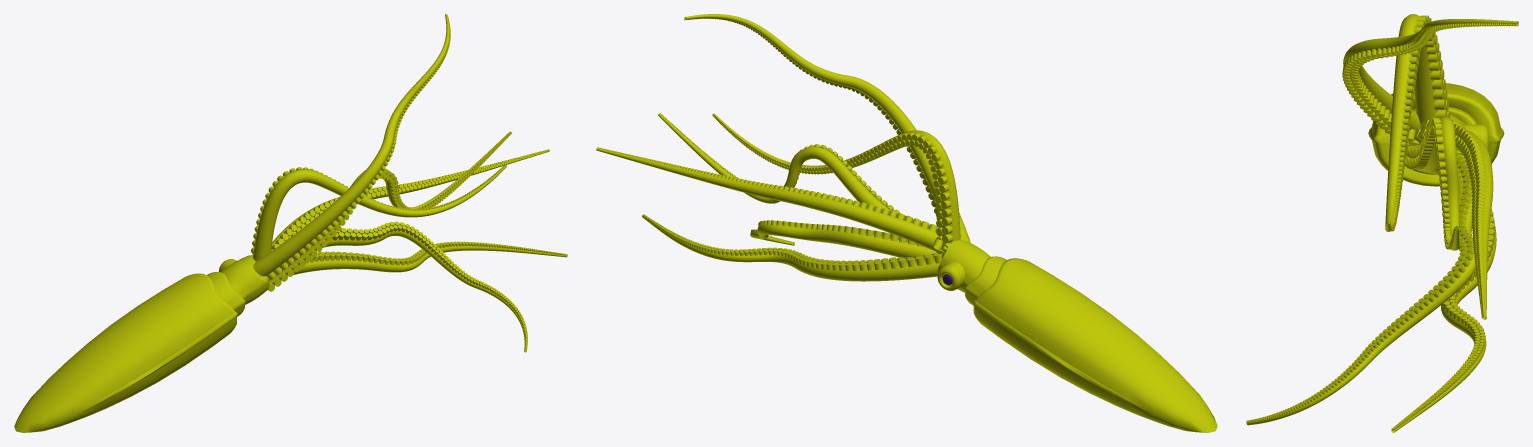
The model's file is mesh_giantSquid.fbx.
The picture shows the model from 3 angles, left to right: view 1: azimuth 30°, elevation 25°; view 2: azimuth 150°, elevation 25°; view 3: azimuth 270°, elevation 25°; orthographic projection. The views are drawn at different scales.
Visible parts, largest first — view 1: Body.412; view 2: Body.412; view 3: Body.412.
Part boxes in pixels (x1,y1,x2,y2): Body.412: [14, 14, 567, 432]; Body.412: [596, 14, 1217, 432]; Body.412: [1246, 14, 1518, 432].
Size of the model in its own units: 3043 by 1525 by 863.
